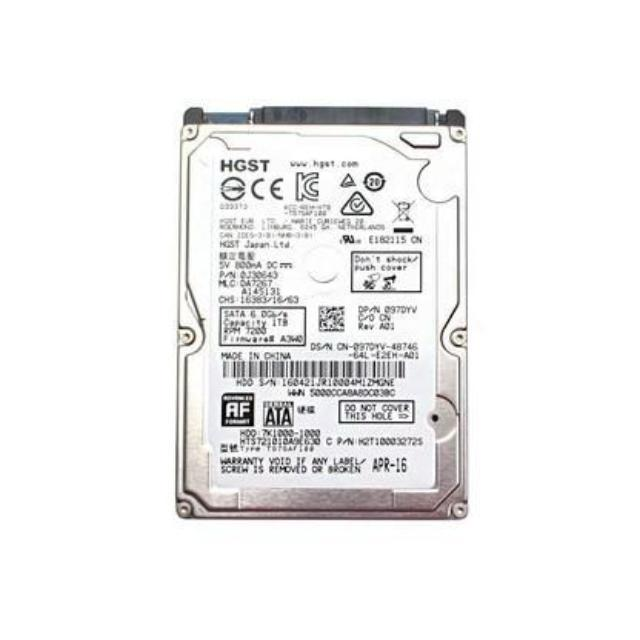DISK: (174, 101, 472, 528)
